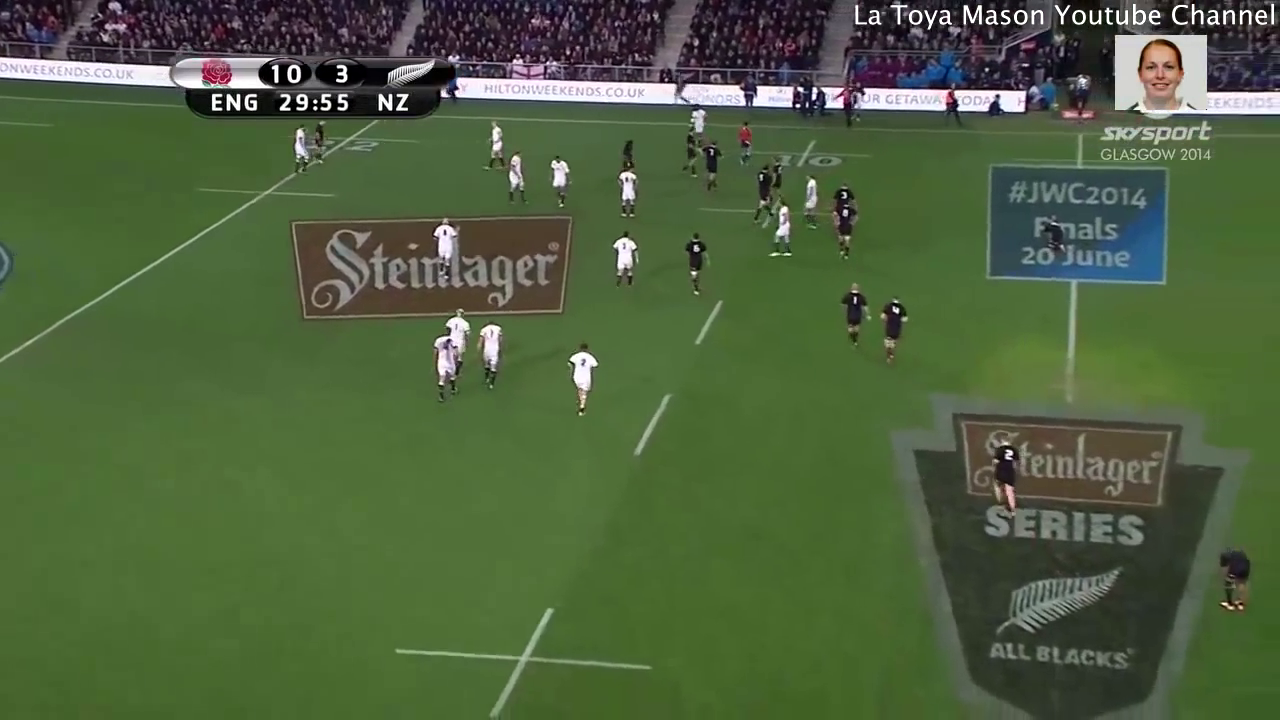10_metre: (389, 603, 664, 720), (691, 179, 841, 236), (742, 128, 878, 183)
player: (986, 423, 1032, 526), (468, 313, 515, 399), (1211, 534, 1256, 623), (564, 335, 601, 424), (427, 324, 466, 405), (873, 292, 912, 373), (833, 276, 870, 352), (440, 298, 471, 388), (678, 226, 713, 303), (761, 198, 805, 259), (743, 158, 780, 228), (499, 142, 534, 216), (794, 172, 830, 242), (606, 225, 645, 288), (827, 198, 862, 263), (431, 216, 462, 285), (544, 152, 576, 215), (611, 158, 643, 220), (479, 118, 512, 177), (289, 118, 315, 186), (1037, 214, 1073, 263), (701, 135, 729, 197), (827, 166, 857, 220), (677, 122, 703, 183), (682, 100, 713, 148), (733, 119, 757, 175), (303, 117, 329, 168), (613, 132, 644, 169), (768, 154, 788, 207)
